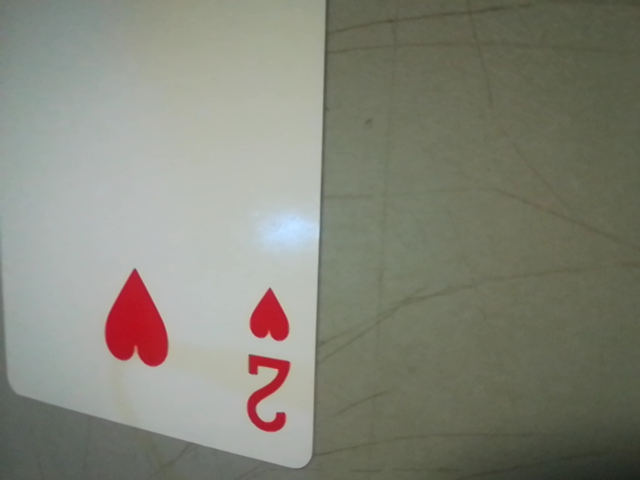hx 2: (230, 266, 309, 453)
